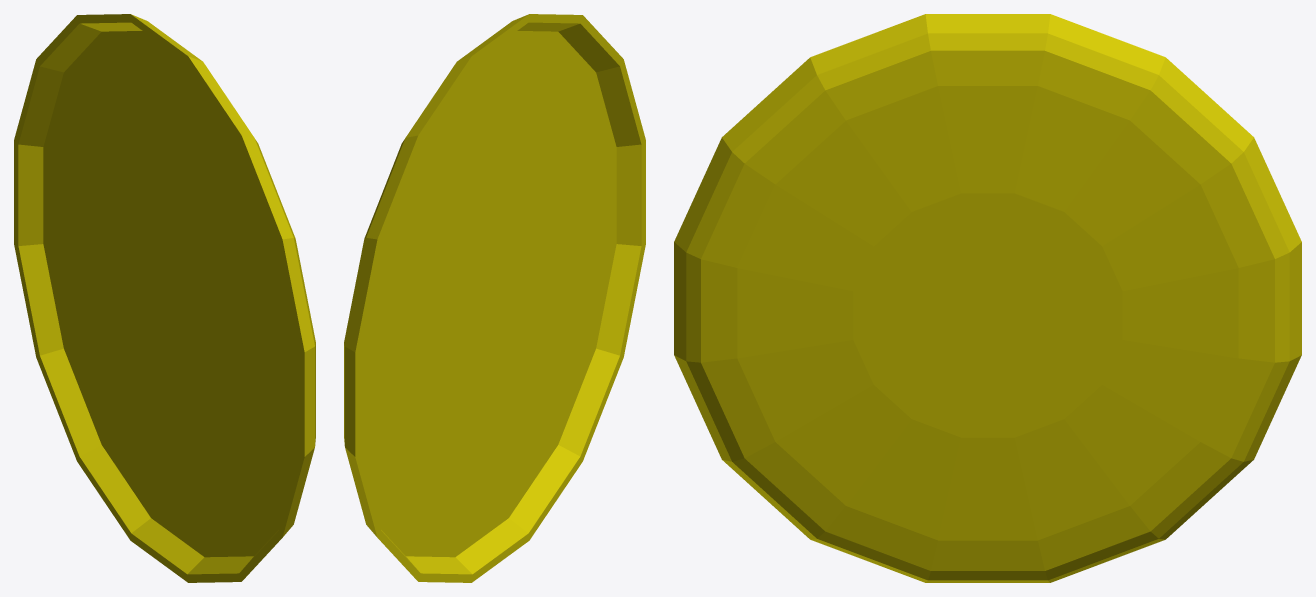
Rendered from Putter.fbx.
The picture shows the model from 3 angles, left to right: view 1: azimuth 30°, elevation 25°; view 2: azimuth 150°, elevation 25°; view 3: azimuth 270°, elevation 25°; orthographic projection. The views are drawn at different scales.
Visible parts, largest first — view 1: Putter; view 2: Putter; view 3: Putter.
Boxes of the visible parts, x1,y1,x2,y2 form: Putter: [14, 14, 315, 582]; Putter: [344, 14, 645, 582]; Putter: [674, 14, 1301, 582].
Size of the model in its own units: 12.58 by 196 by 196.
